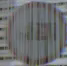Heavy Vehicles: (5, 7, 57, 53)
